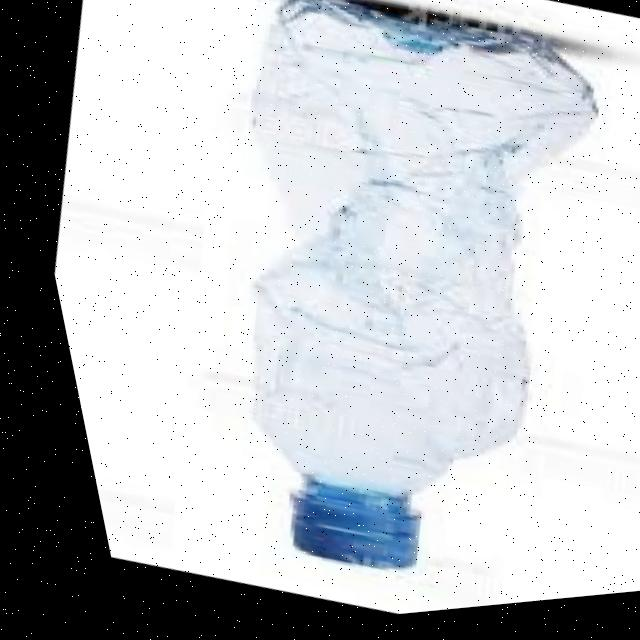sise: (64, 0, 640, 635)
